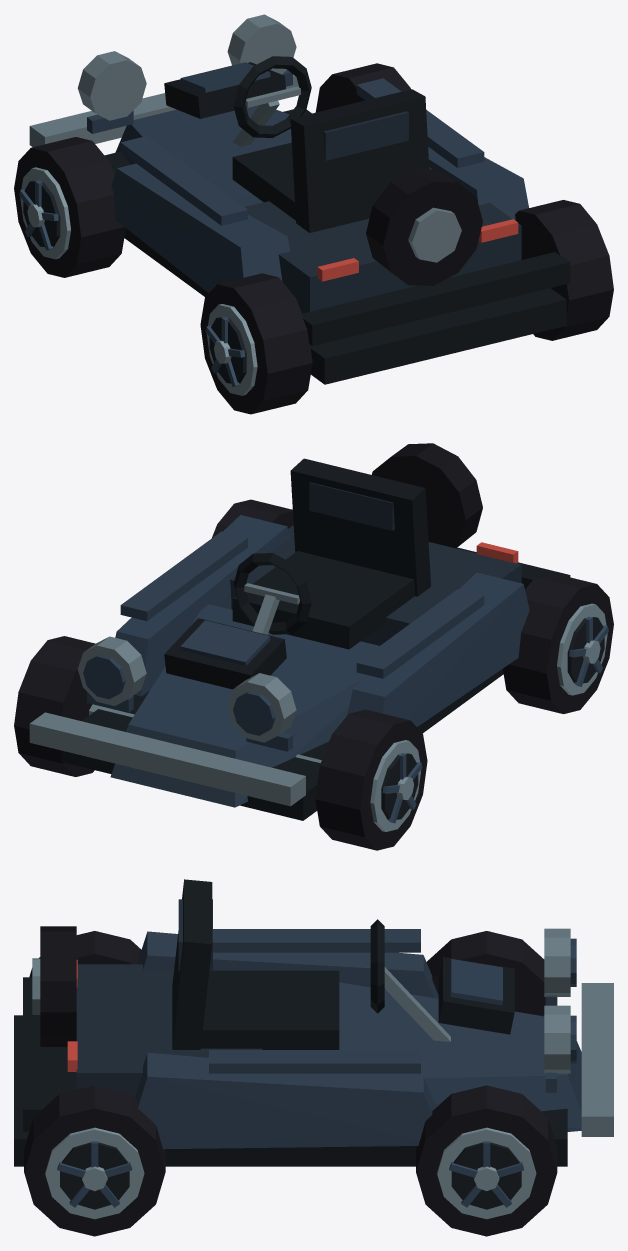
File: kart.glb
3 views of the same model, one above another, from view 1: azimuth 30°, elevation 25°; view 2: azimuth 150°, elevation 25°; view 3: azimuth 270°, elevation 25° (orthographic). The views are drawn at different scales.
Parts seen in each view (by area): view 1: chassis, wheel-rear-left, wheel-front-left, wheel-rear-right, wheel-front-right; view 2: chassis, wheel-front-left, wheel-rear-left, wheel-front-right, wheel-rear-right; view 3: chassis, wheel-front-right, wheel-rear-right, wheel-front-left, wheel-rear-left.
Boxes of the visible parts, x1=… form: chassis: x1=29, y1=14, x2=570, y2=384; wheel-rear-left: x1=200, y1=273, x2=312, y2=414; wheel-front-left: x1=14, y1=137, x2=125, y2=277; wheel-rear-right: x1=515, y1=200, x2=613, y2=340; wheel-front-right: x1=315, y1=63, x2=410, y2=112; chassis: x1=29, y1=443, x2=570, y2=820; wheel-front-left: x1=315, y1=709, x2=427, y2=850; wheel-rear-left: x1=503, y1=573, x2=613, y2=713; wheel-front-right: x1=14, y1=636, x2=95, y2=776; wheel-rear-right: x1=212, y1=499, x2=293, y2=537; chassis: x1=14, y1=879, x2=613, y2=1166; wheel-front-right: x1=416, y1=1085, x2=557, y2=1236; wheel-rear-right: x1=24, y1=1085, x2=165, y2=1236; wheel-front-left: x1=426, y1=931, x2=557, y2=1015; wheel-rear-left: x1=29, y1=931, x2=141, y2=977.
Bounding box in the file's own units: 2.25 × 1.3 × 2.97.
